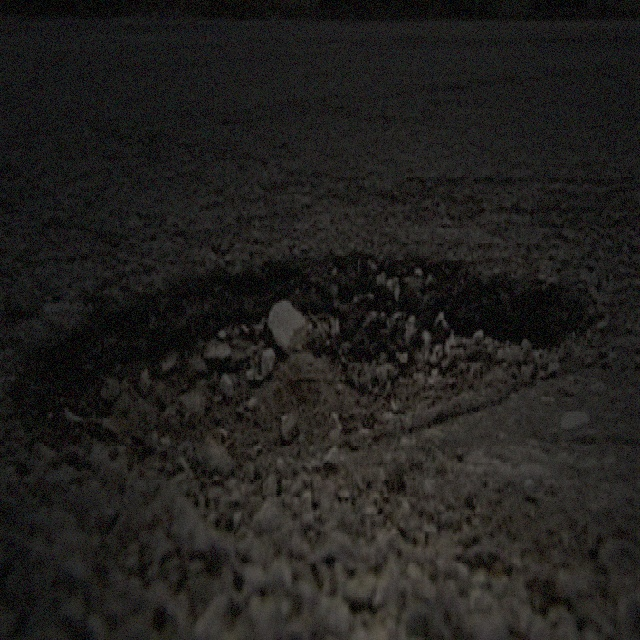pothole: (8, 250, 596, 522)
